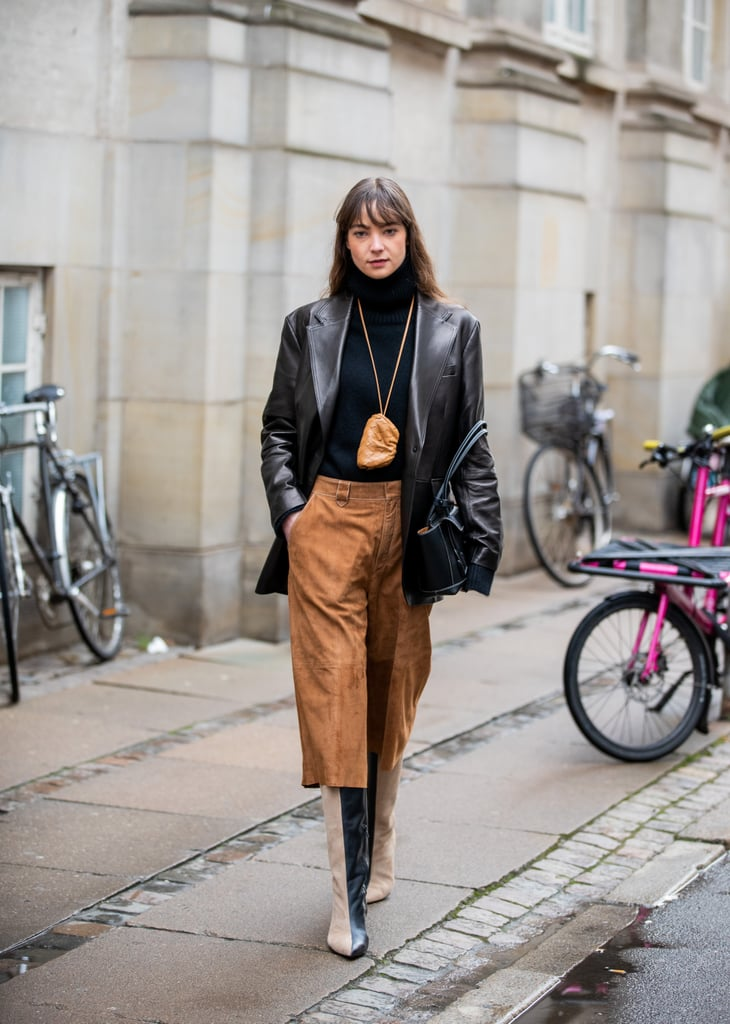Person: (242, 133, 512, 969)
